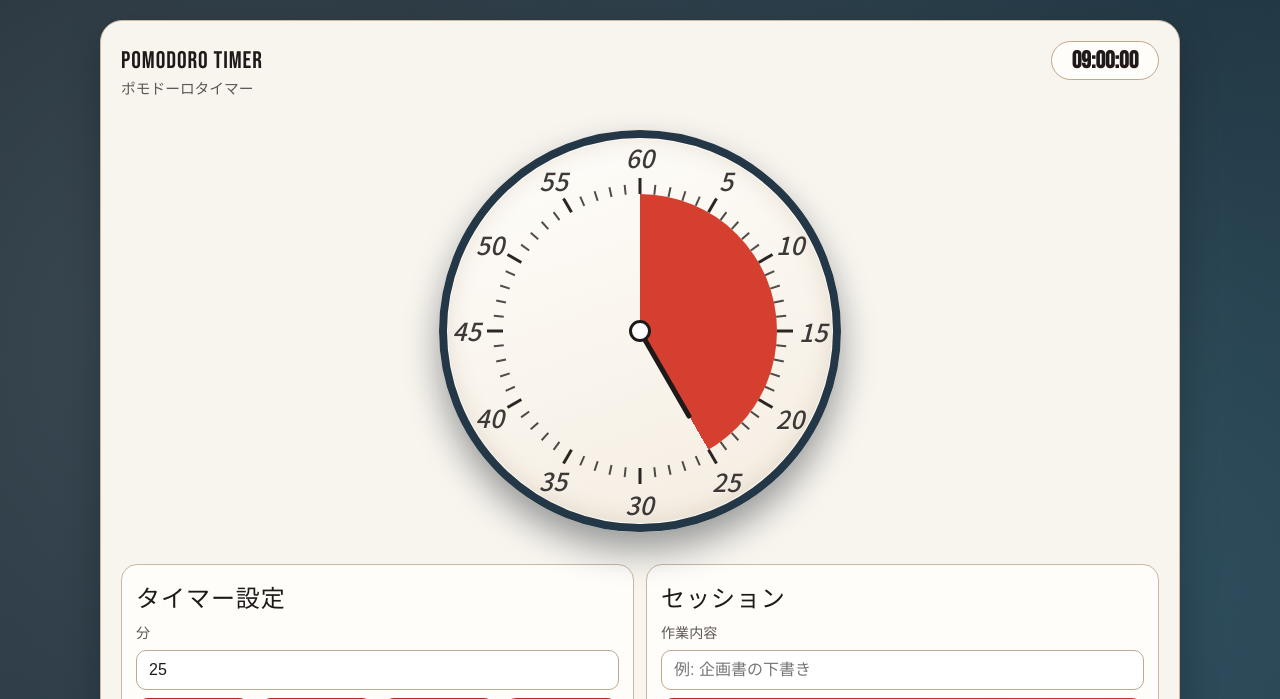
Test: App › saves one log when completed manually while running
Step 1. Replace the text in the number field labelled "分" with "10" → (378, 670), box [136,650,619,690]
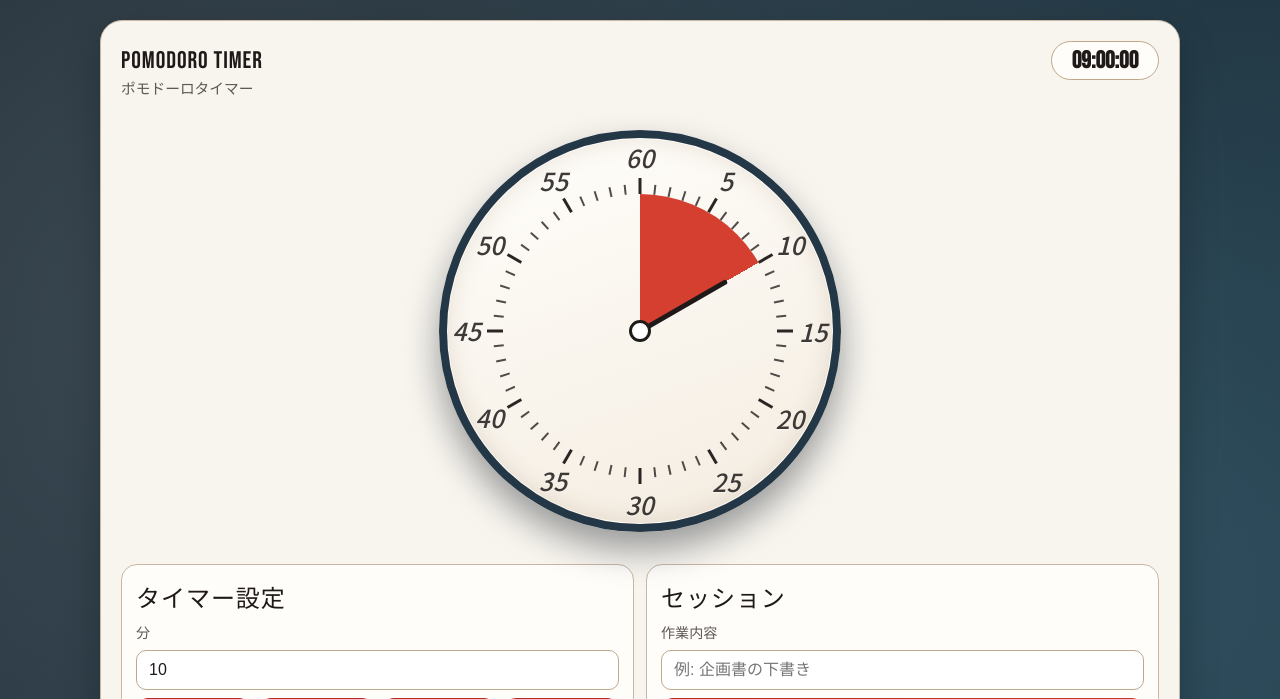
Step 2. Type "手動完了テスト" into the field labelled "作業内容" → (902, 670), box [661,650,1144,690]
(page scrolled)
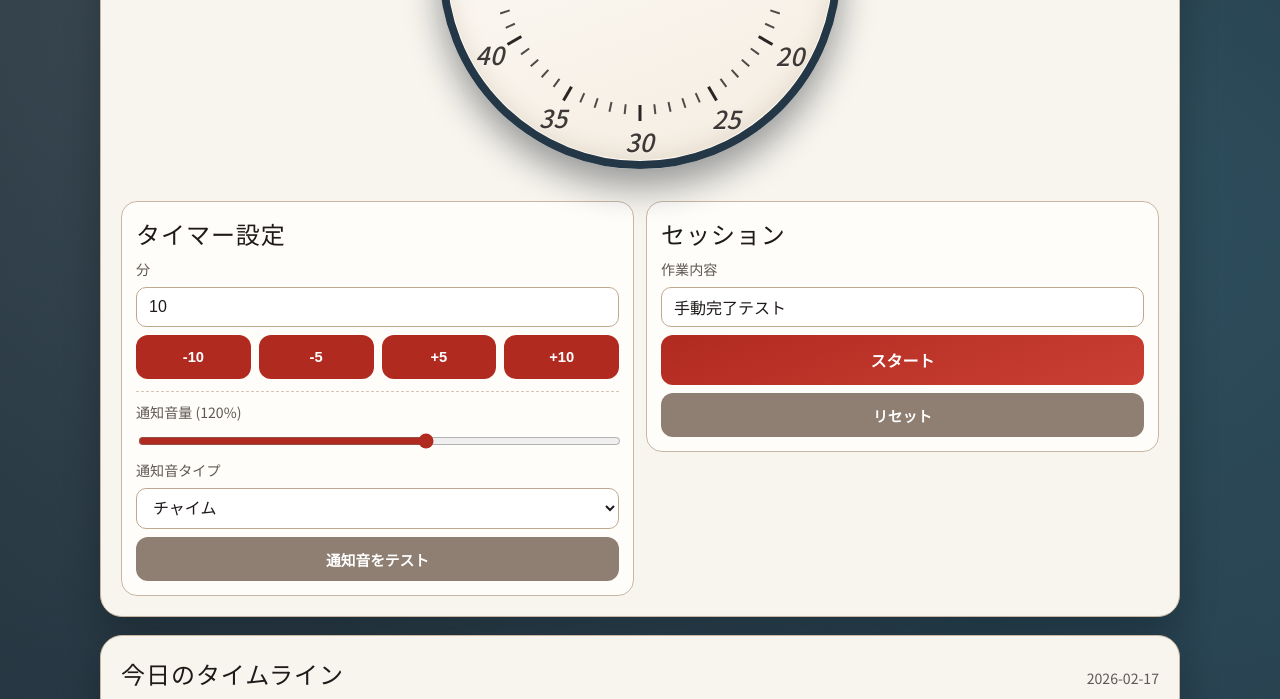
Step 3. Click the button named "タイマー開始" → (902, 360), box [661,335,1144,385]
Wait 30000 ms
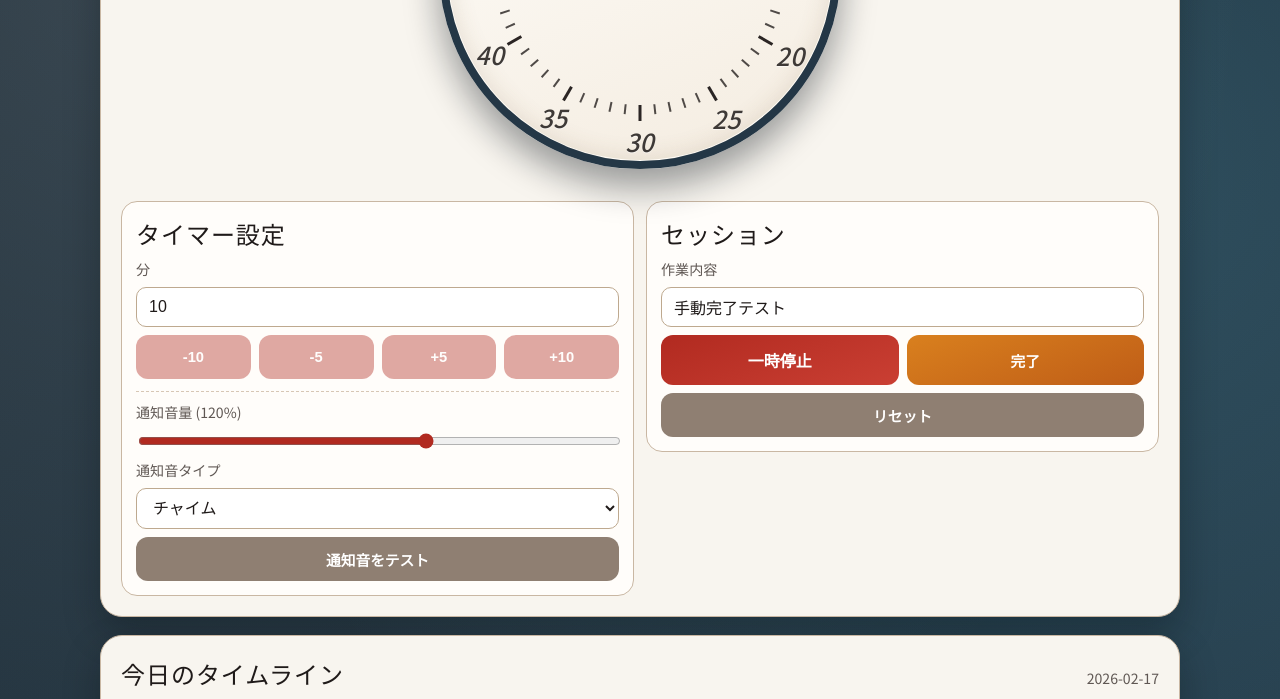
Step 4. Click the button "完了" → (1025, 360), box [906,335,1144,385]
(page scrolled)
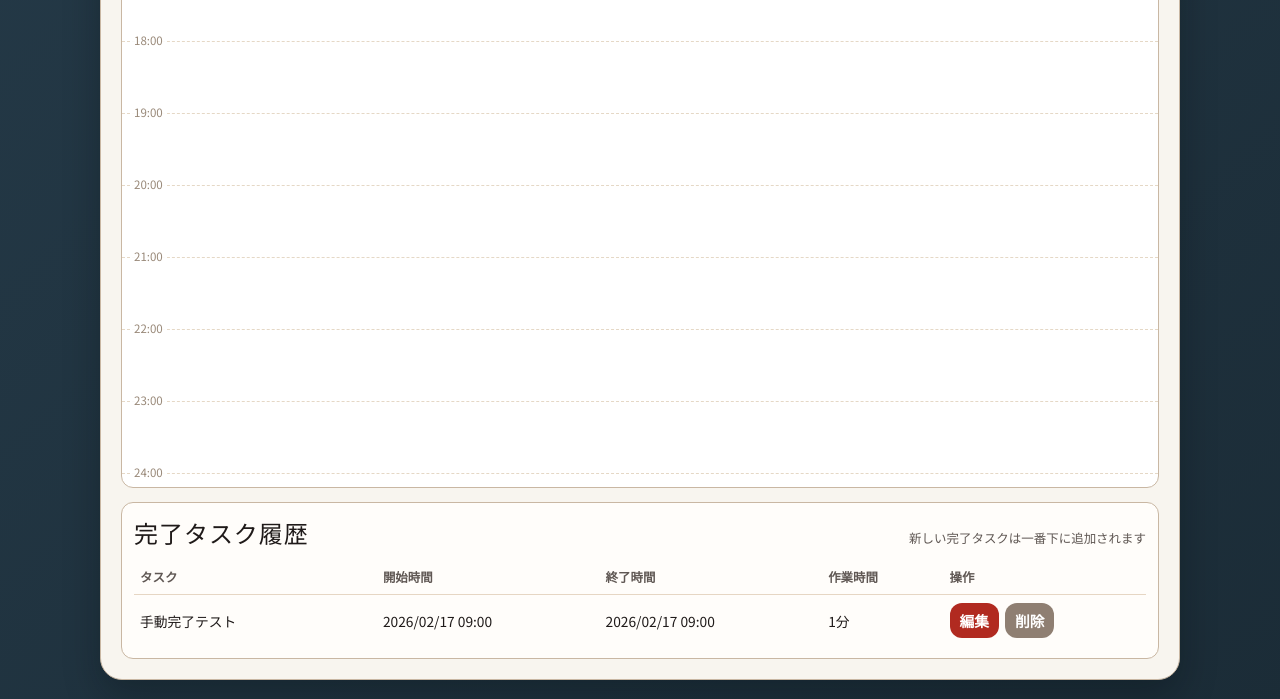
Result: the cell "手動完了テスト" is shown at [134,594,377,646]
